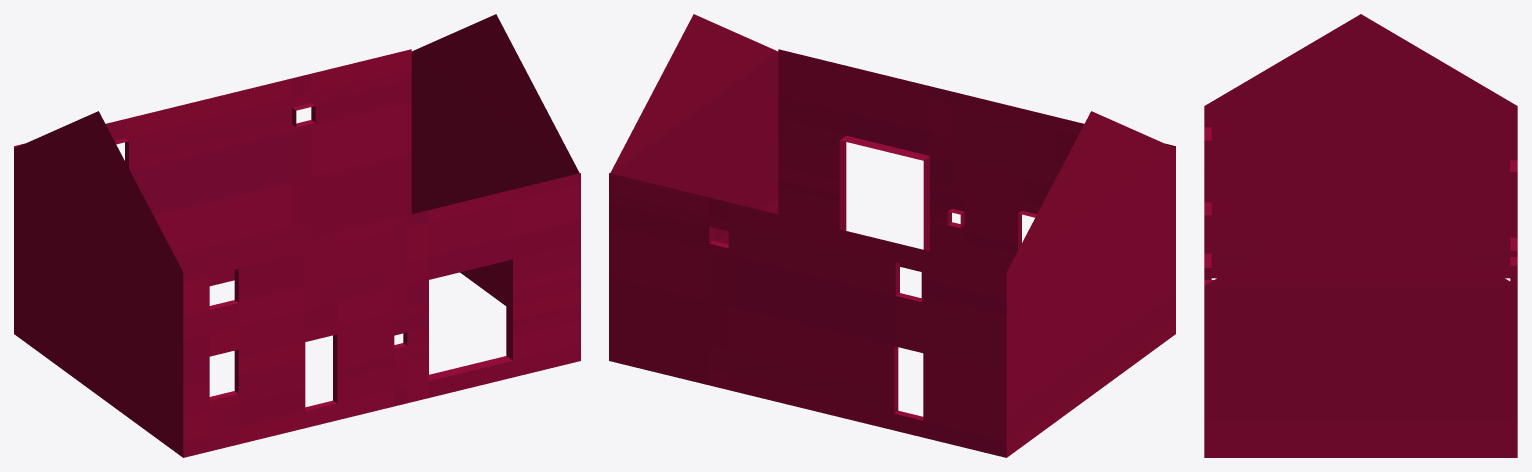
Rendered from SM_Bld_152_Masonry.glb.
The picture shows the model from 3 angles, left to right: view 1: azimuth 30°, elevation 25°; view 2: azimuth 150°, elevation 25°; view 3: azimuth 270°, elevation 25°; orthographic projection. The views are drawn at different scales.
Visible parts, largest first — view 1: SM_Bld_152_Masonry; view 2: SM_Bld_152_Masonry; view 3: SM_Bld_152_Masonry.
Boxes of the visible parts, x1,y1,x2,y2 form: SM_Bld_152_Masonry: (14, 14, 580, 457); SM_Bld_152_Masonry: (609, 14, 1175, 457); SM_Bld_152_Masonry: (1204, 14, 1517, 457).
Size of the model in its own units: 12.33 by 8.45 by 9.09.
